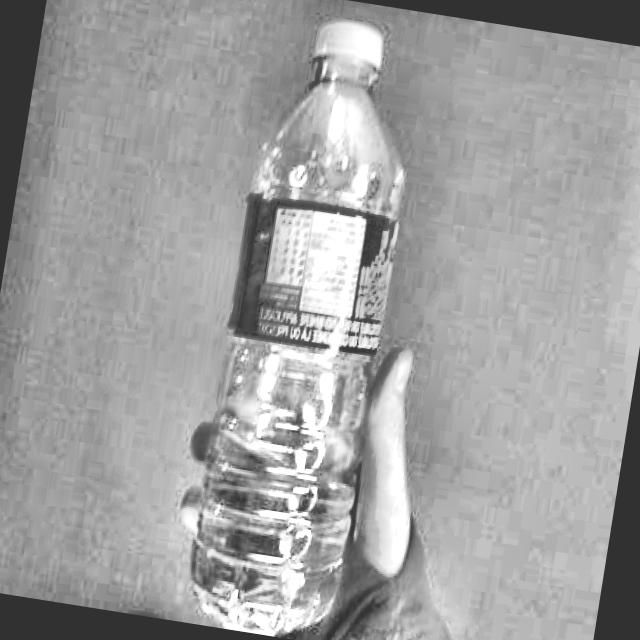waterbottle: (174, 0, 445, 640)
